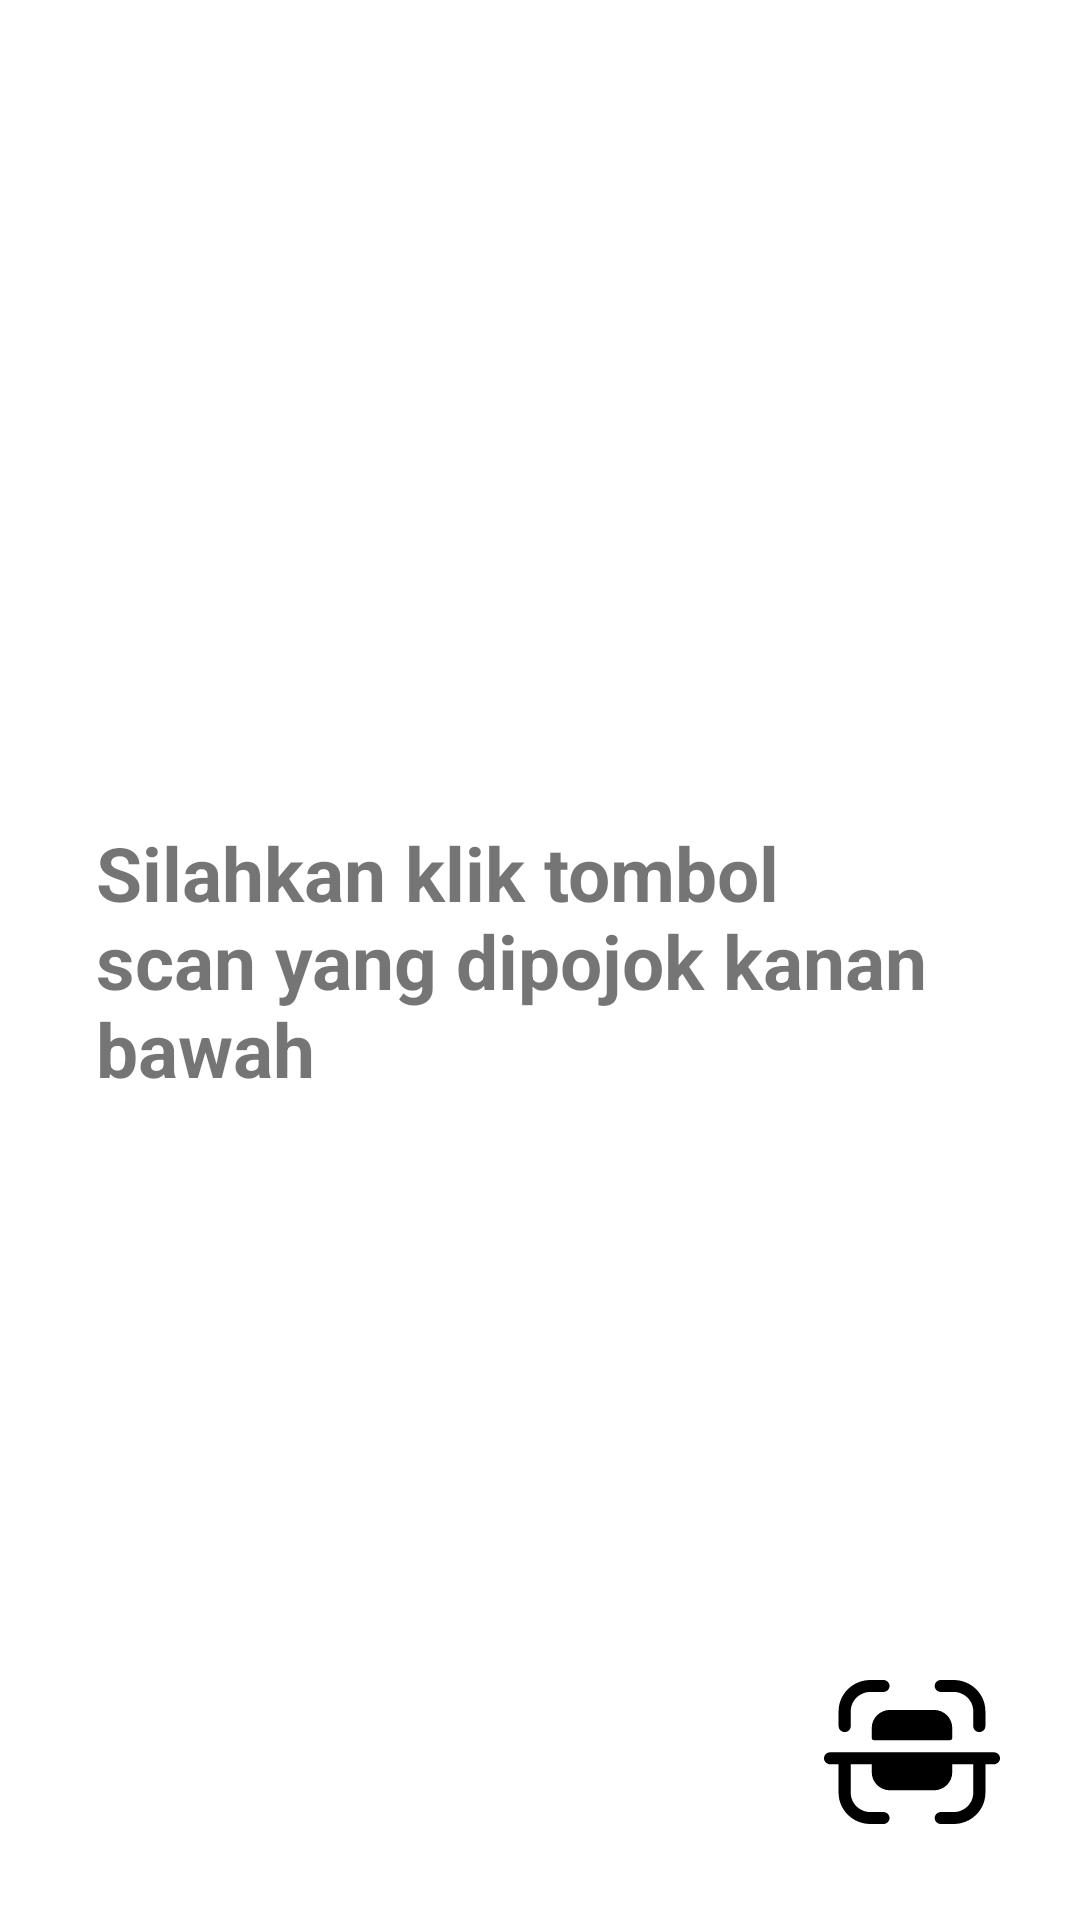

Screen size 1080w x 1920h. Icon name, then its box in pixels as (x1, y1, x2, y2):
scan: (824, 1680, 1000, 1824)
